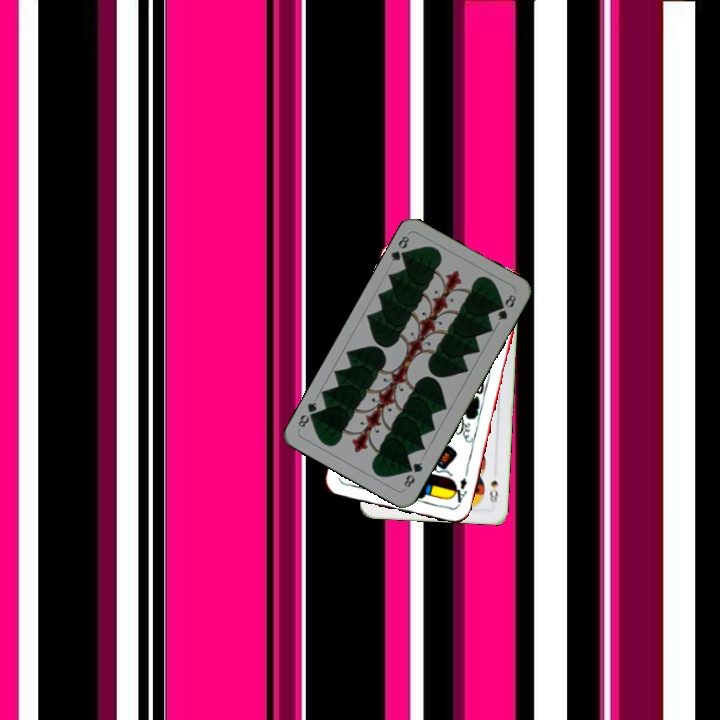EA: (448, 474, 470, 508)
G8: (387, 231, 412, 264), (400, 458, 425, 490)
S8: (485, 476, 501, 508)
